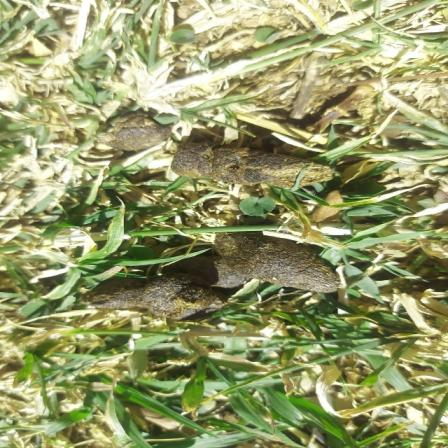dog-poop: (98, 106, 329, 197), (94, 225, 339, 310)
